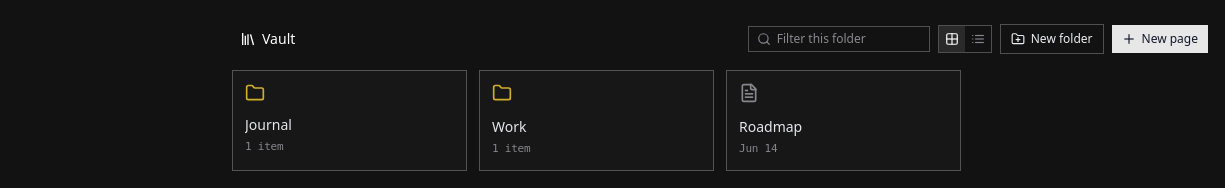
Test: VaultBrowserPane - right-click menu › offers the virtual Journal nothing it cannot do
Right-click the element showing "Journal 1 item" at point(350, 120), box [232,70,467,170]
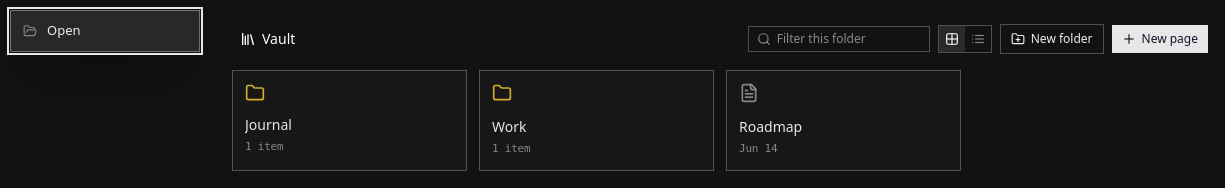
Check: the menu items read "Open", in this order, box [11,15,199,46]
